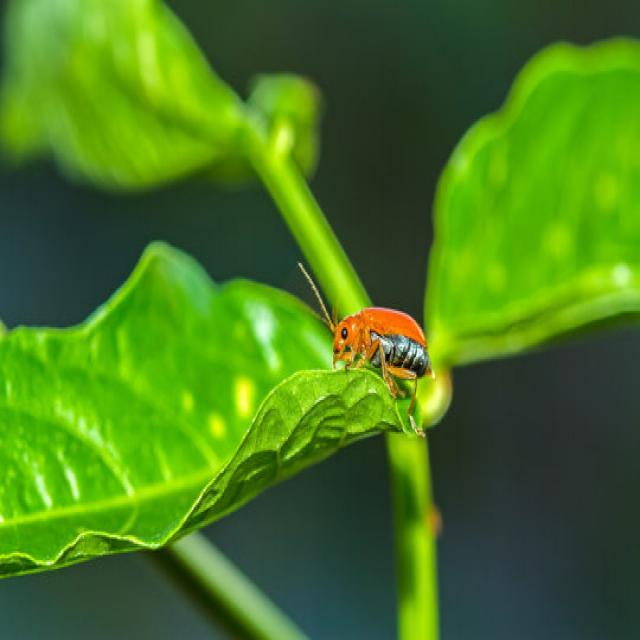Pumpkin Beetle: (284, 255, 435, 440)
